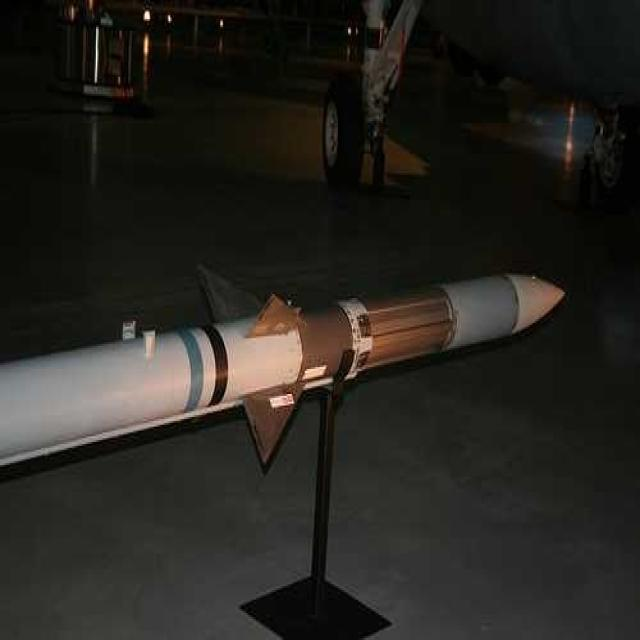missile: (4, 269, 568, 467)
